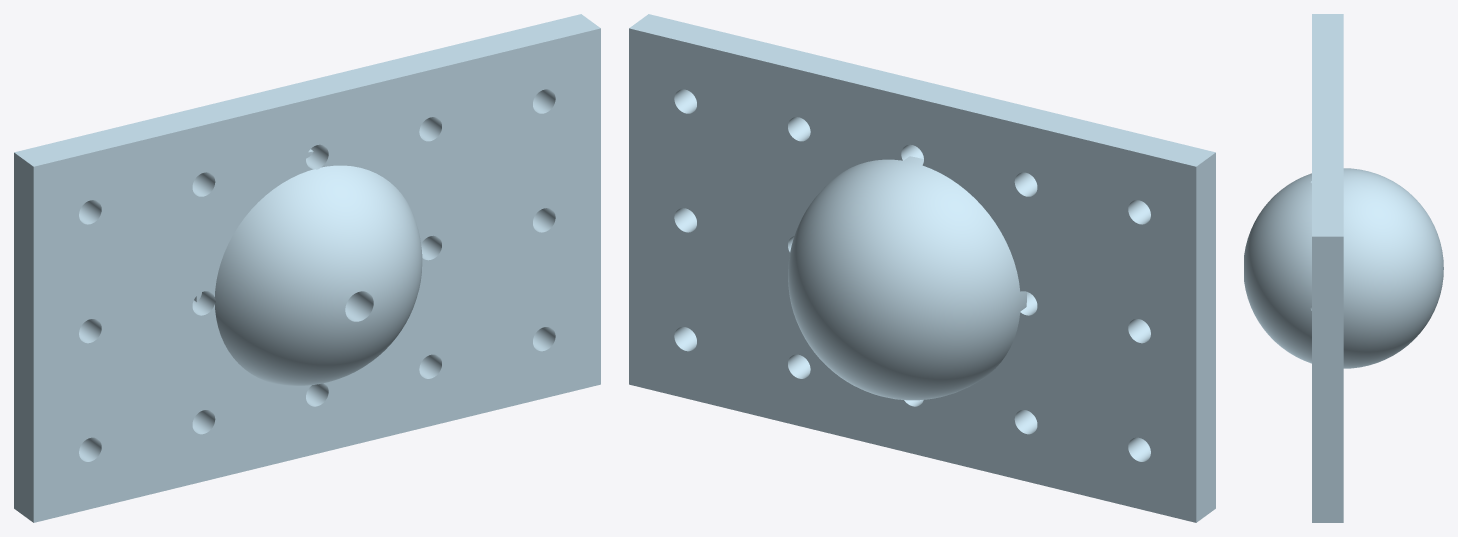
The picture shows the model from 3 angles, left to right: view 1: azimuth 30°, elevation 25°; view 2: azimuth 150°, elevation 25°; view 3: azimuth 270°, elevation 25°; orthographic projection. The views are drawn at different scales.
Visible parts, largest first — view 1: Part 1; view 2: Part 1; view 3: Part 1.
Boxes of the visible parts, x1,y1,x2,y2 form: Part 1: [14, 14, 600, 522]; Part 1: [629, 14, 1215, 522]; Part 1: [1244, 14, 1443, 522].
Bounding box in the file's own units: 0.2 × 0.12 × 0.0759.
